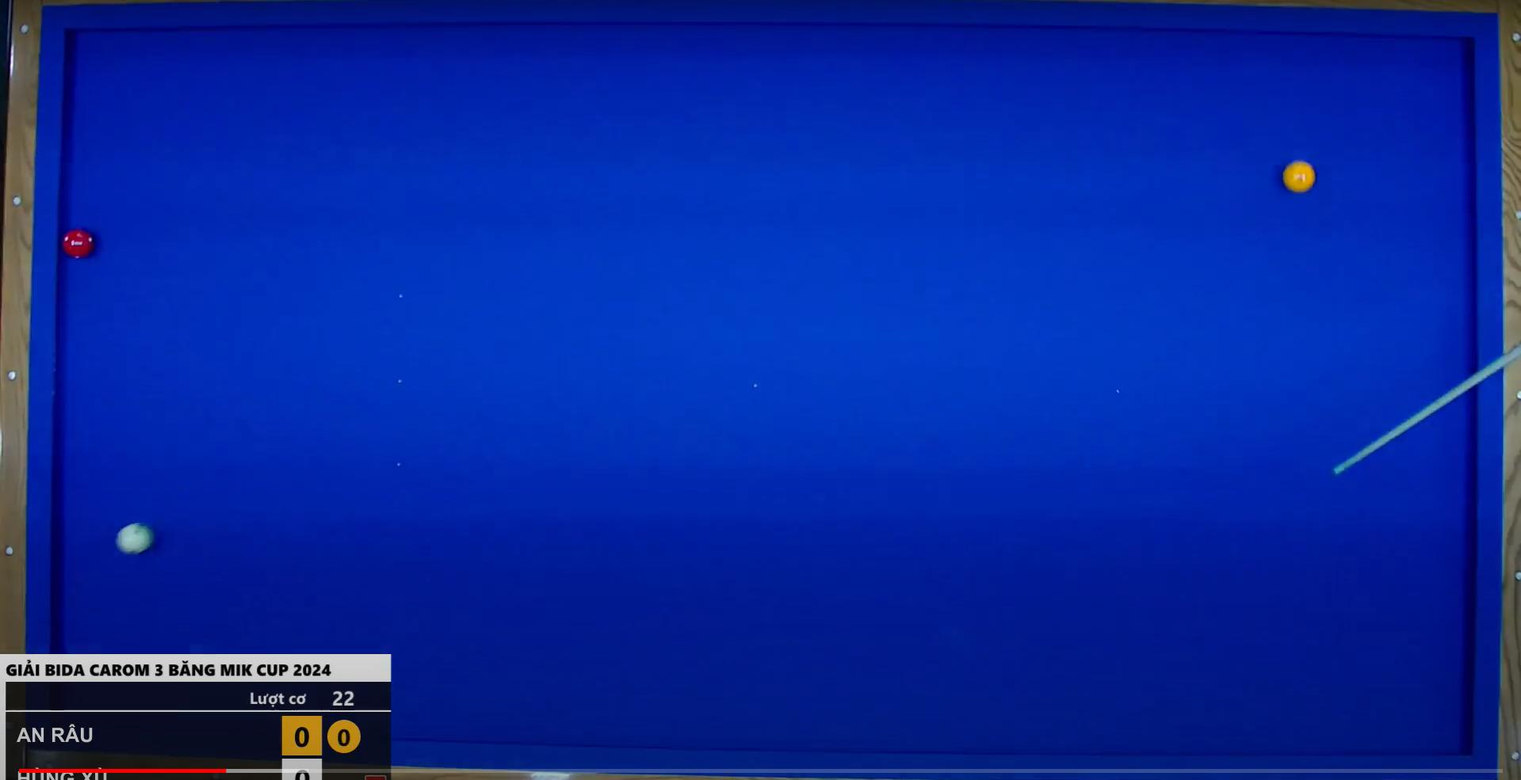red ball: (55, 216, 107, 275)
white ball: (110, 511, 159, 568)
yellow ball: (1278, 157, 1318, 198)
